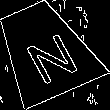N_NW: (12, 19, 78, 82)
